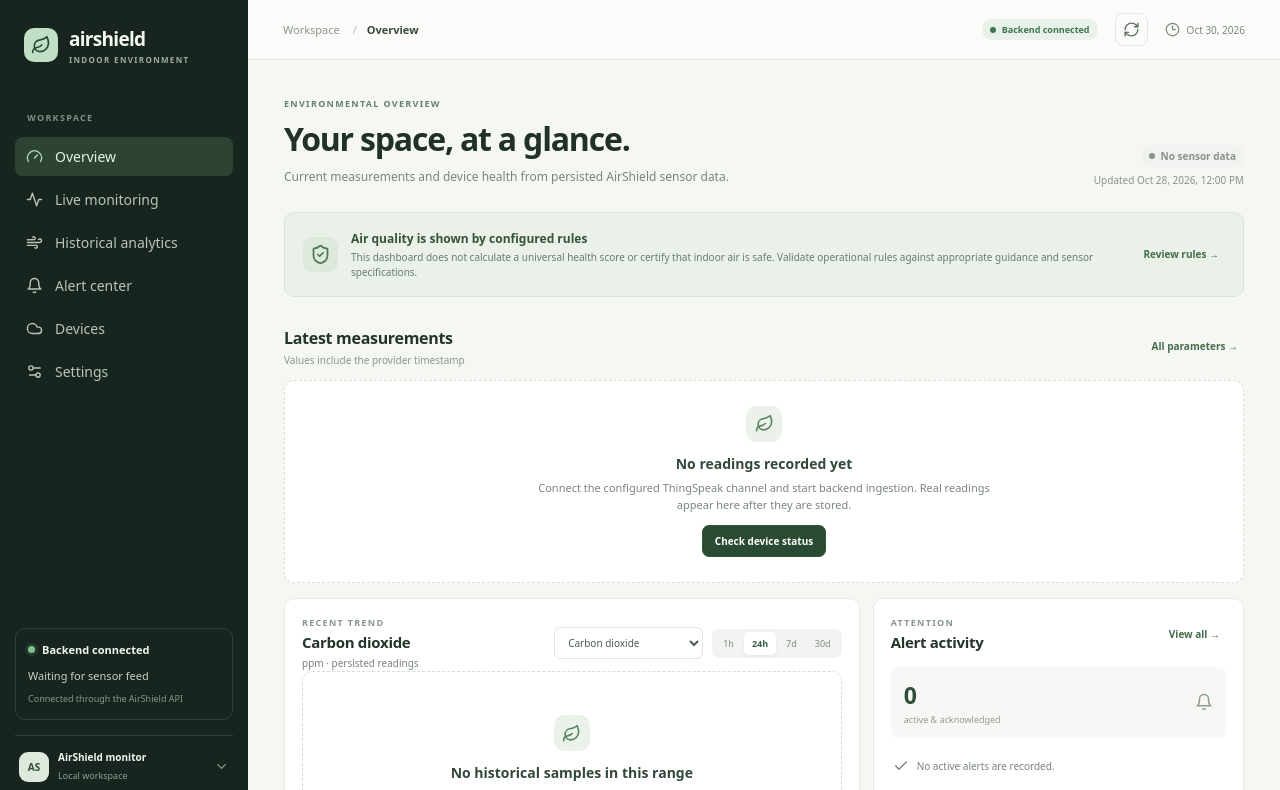
Test: AirShield application › shows an honest empty state and changes navigation content
Expected: the heading "No readings recorded yet" is shown, [676,454,852,473]
Click the button "Live monitoring" at (124, 200), box [15,180,233,219]
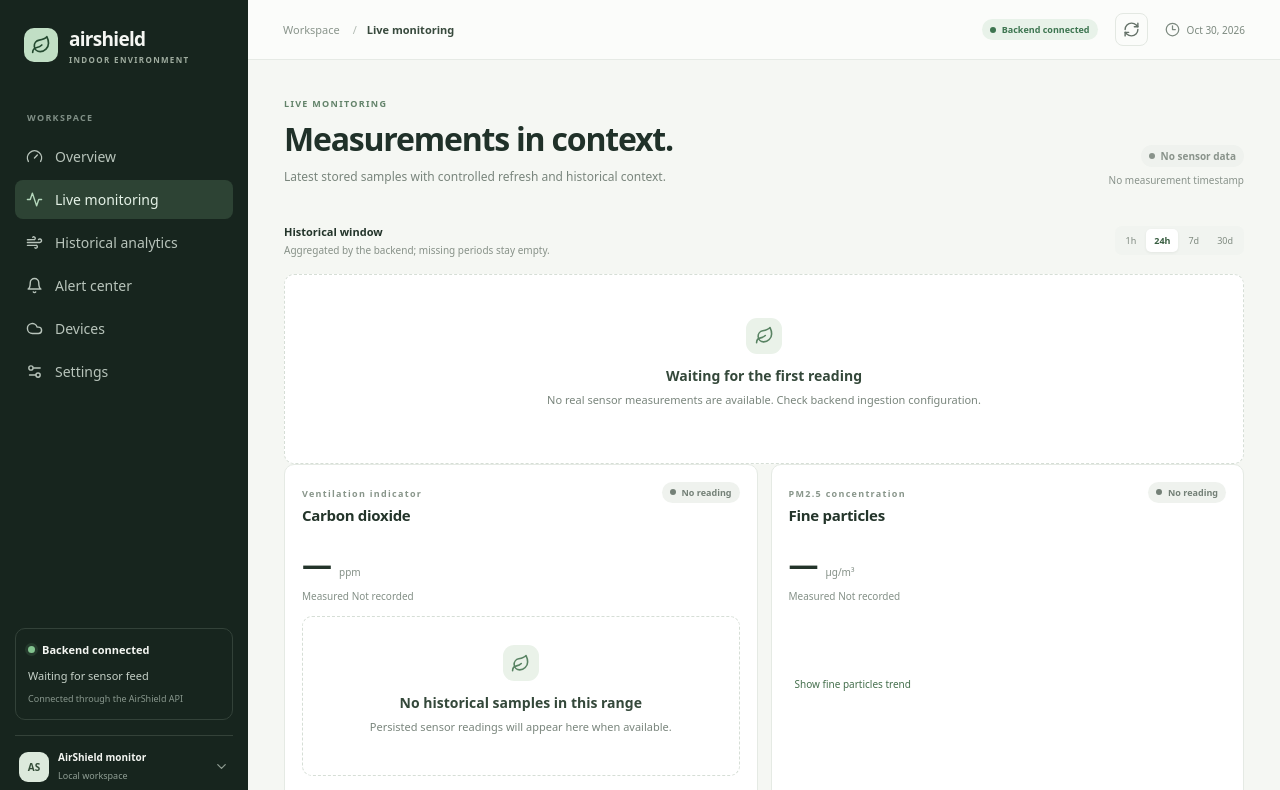
Expected: the heading "Measurements in context." is shown, [284,117,673,160]
Expected: the heading "Waiting for the first reading" is shown, [666,366,862,385]
